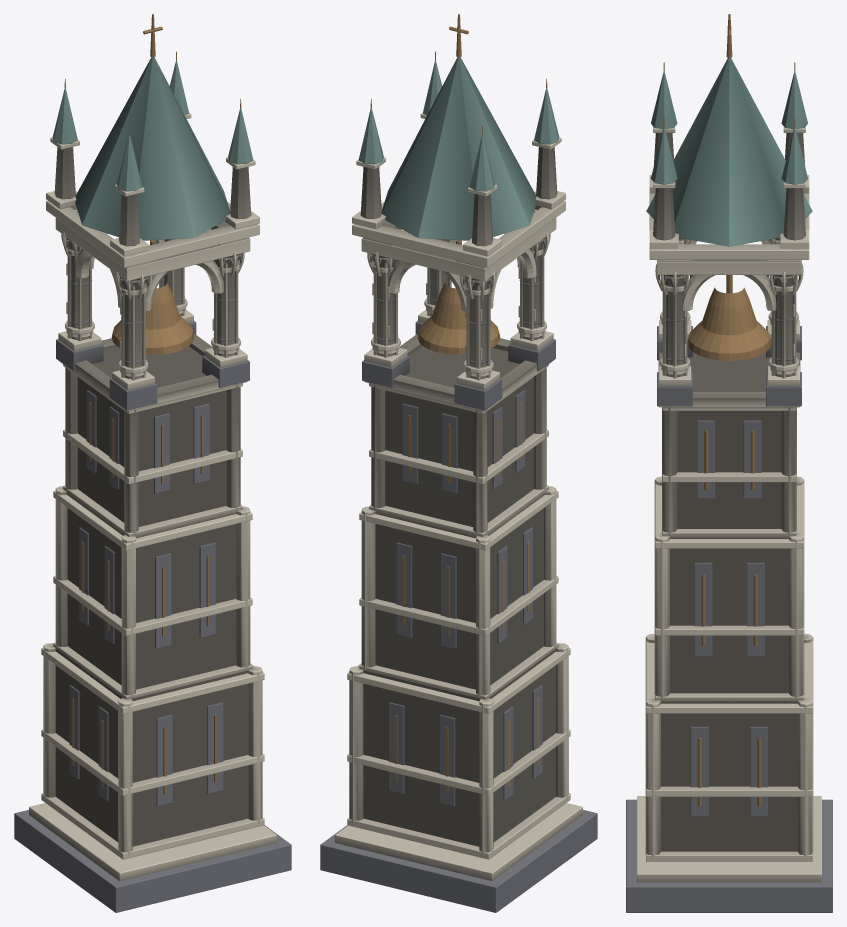
The model's file is falling-tower.glb.
3 views of the same model, side by side, from view 1: azimuth 30°, elevation 25°; view 2: azimuth 150°, elevation 25°; view 3: azimuth 270°, elevation 25° (orthographic).
Parts seen in each view (by area): view 1: falling-tower__pale, falling-tower__limestone, falling-tower__shadow, falling-tower__copper, falling-tower__bronze; view 2: falling-tower__pale, falling-tower__limestone, falling-tower__shadow, falling-tower__copper, falling-tower__bronze; view 3: falling-tower__limestone, falling-tower__pale, falling-tower__copper, falling-tower__shadow, falling-tower__bronze.
Boxes of the visible parts, bbox=[...] form: falling-tower__pale: bbox=[29, 113, 276, 880]; falling-tower__limestone: bbox=[54, 147, 251, 846]; falling-tower__shadow: bbox=[14, 280, 291, 912]; falling-tower__copper: bbox=[52, 57, 253, 240]; falling-tower__bronze: bbox=[64, 14, 241, 794]; falling-tower__pale: bbox=[335, 113, 582, 880]; falling-tower__limestone: bbox=[360, 147, 557, 846]; falling-tower__shadow: bbox=[320, 280, 597, 912]; falling-tower__copper: bbox=[358, 57, 559, 240]; falling-tower__bronze: bbox=[370, 14, 547, 794]; falling-tower__limestone: bbox=[653, 133, 805, 851]; falling-tower__pale: bbox=[637, 126, 821, 882]; falling-tower__copper: bbox=[646, 58, 812, 246]; falling-tower__shadow: bbox=[626, 318, 832, 912]; falling-tower__bronze: bbox=[663, 14, 795, 806].
Size of the model in its own units: 57 by 260 by 57.
